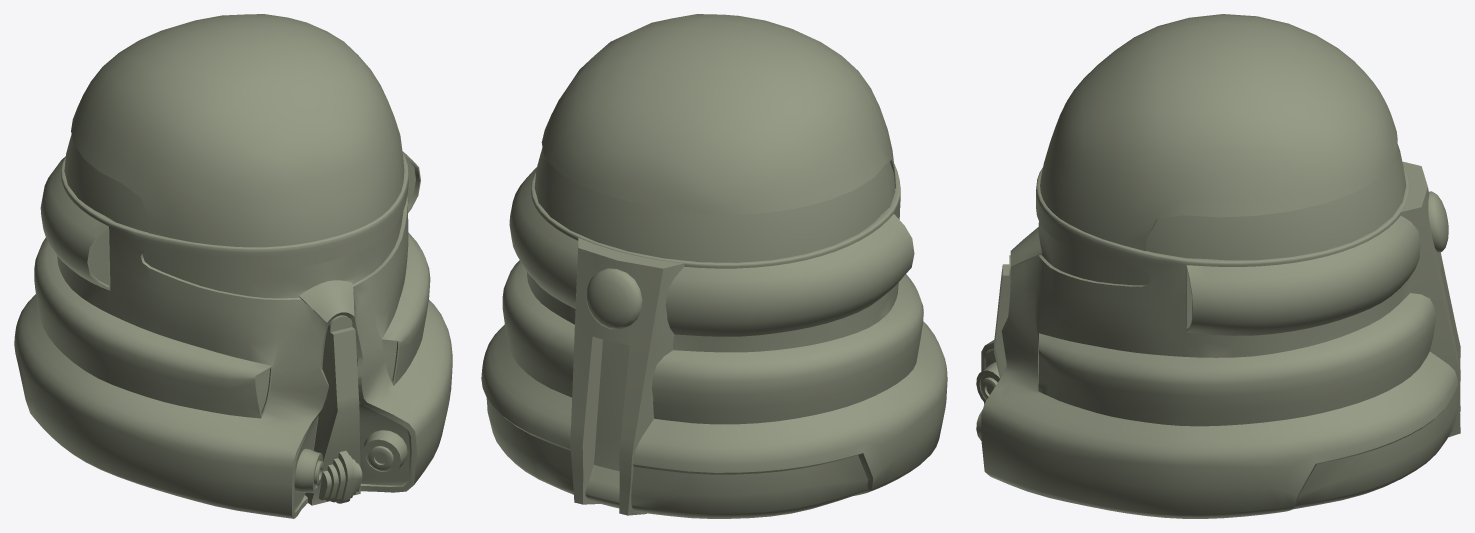
File: airborne_helmet.obj
3 views of the same model, side by side, from view 1: azimuth 30°, elevation 25°; view 2: azimuth 150°, elevation 25°; view 3: azimuth 270°, elevation 25° (orthographic). The views are drawn at different scales.
Parts seen in each view (by area): view 1: airborne_helmet; view 2: airborne_helmet; view 3: airborne_helmet.
Part boxes in pixels (x1,y1,x2,y2): airborne_helmet: [14, 14, 452, 518]; airborne_helmet: [481, 14, 947, 518]; airborne_helmet: [976, 14, 1460, 518].
Size of the model in its own units: 10.89 by 10.96 by 11.56.
